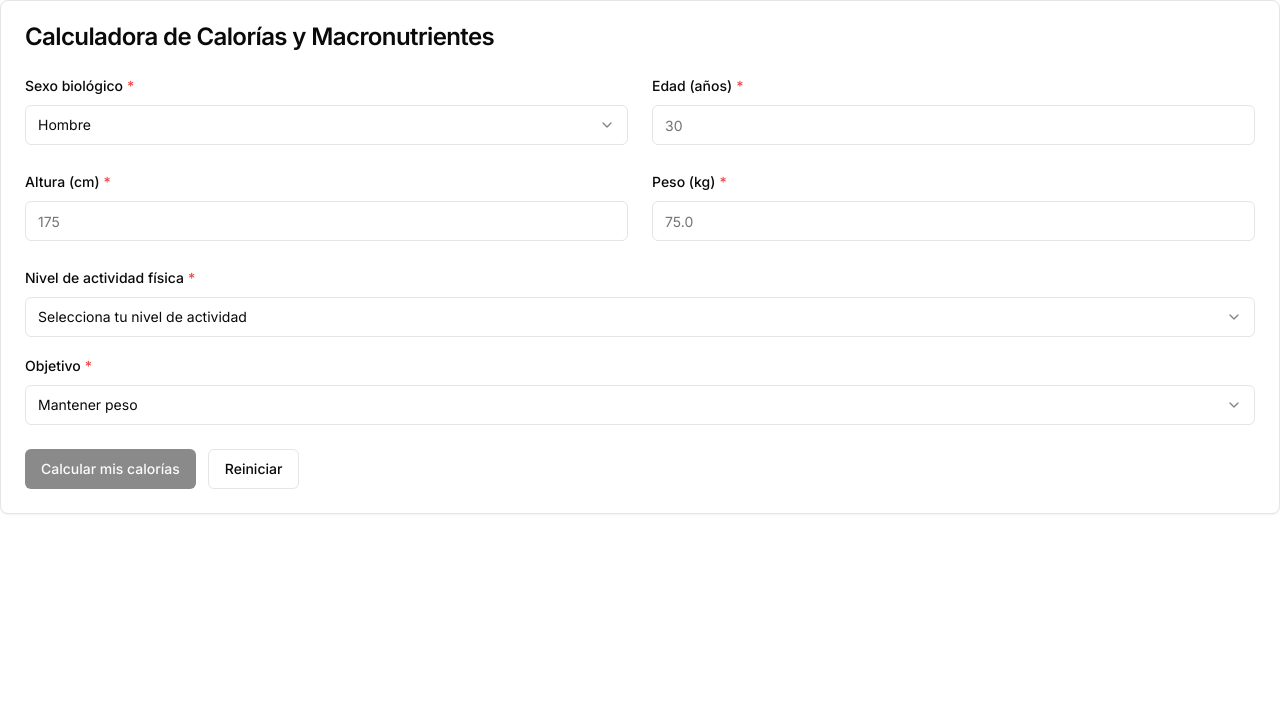
it: CalculatorForm › shows validation errors for invalid inputs
Type "5" into the number field labelled "Edad (años)*" at (954, 125), box [652,105,1255,145]
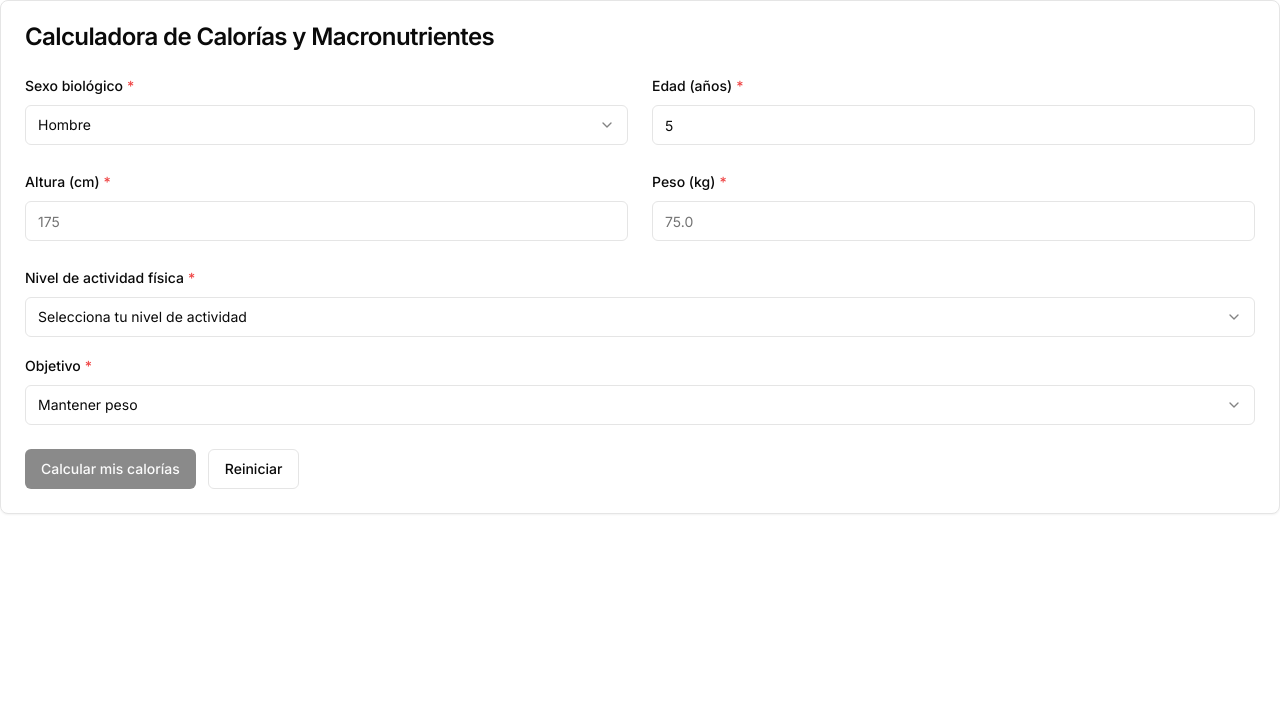
Leave the number field labelled "Edad (años)*", box [652,105,1255,145]
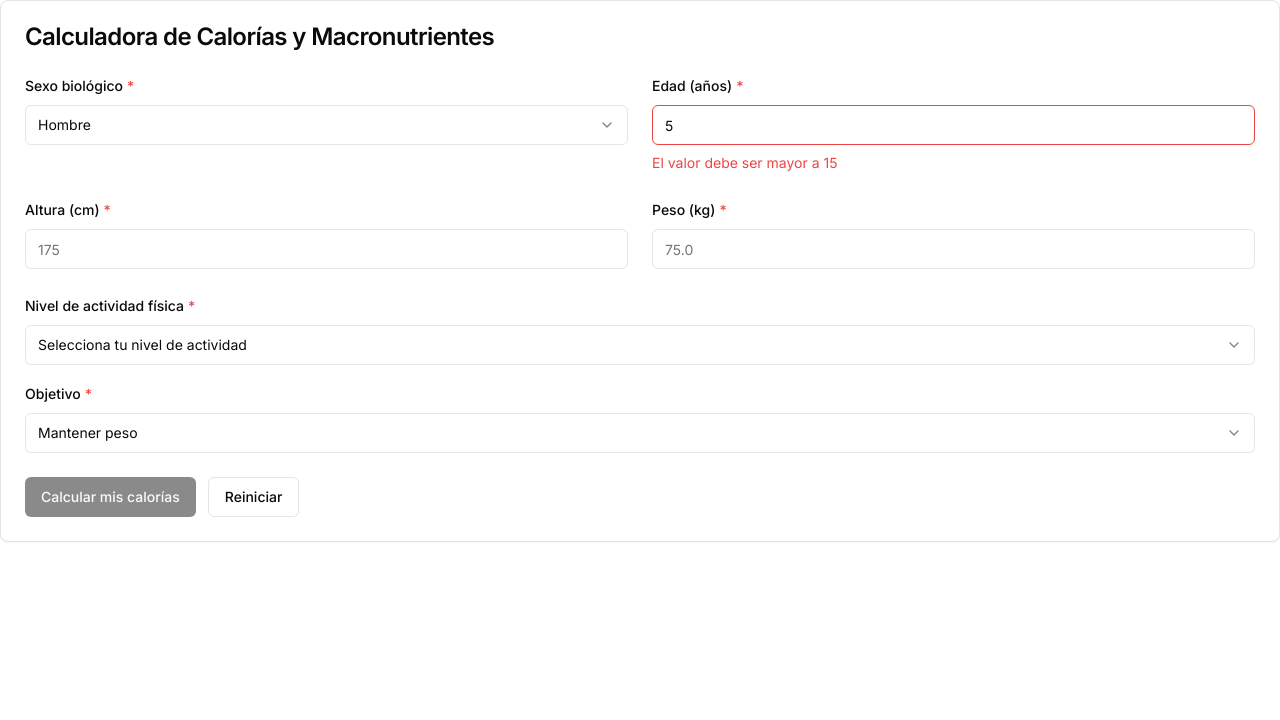
Expected: the text "El valor debe ser mayor a 15" is shown, [652,154,838,171]
